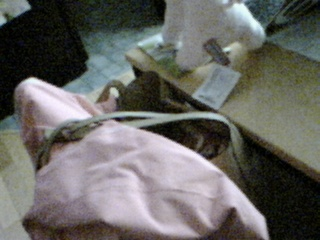piggy: (159, 1, 268, 74)
